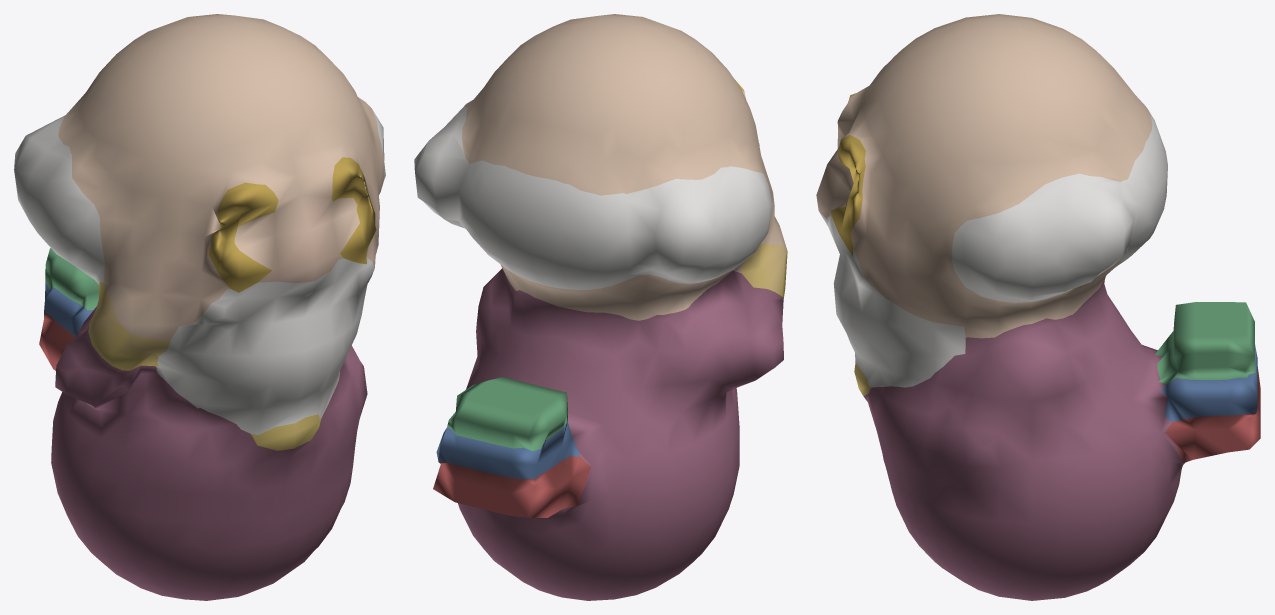
File: rider_c04_lo.glb
The picture shows the model from 3 angles, left to right: view 1: azimuth 30°, elevation 25°; view 2: azimuth 150°, elevation 25°; view 3: azimuth 270°, elevation 25°; orthographic projection. The views are drawn at different scales.
Visible parts, largest first — view 1: rider_c04_lo; view 2: rider_c04_lo; view 3: rider_c04_lo.
Part boxes in pixels (x1,y1,x2,y2): rider_c04_lo: (14,14,385,600); rider_c04_lo: (414,14,787,600); rider_c04_lo: (816,14,1260,600).
Bounding box in the file's own units: 26.04 × 42.8 × 30.83.
